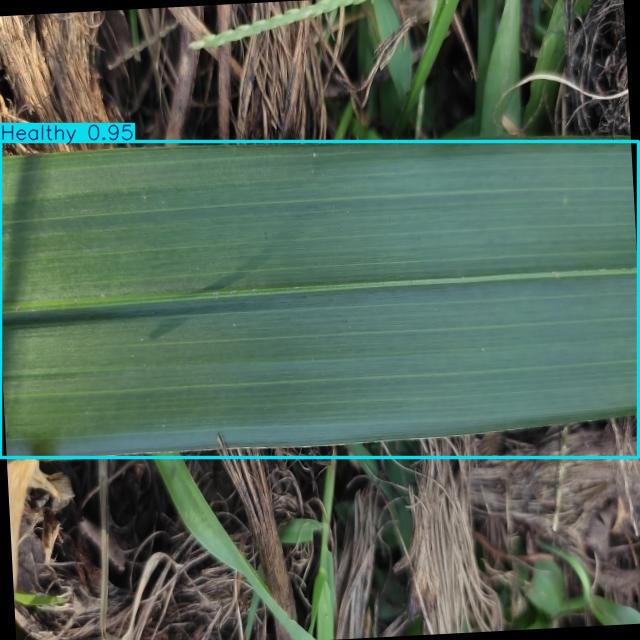Healthy: (0, 141, 639, 458)
